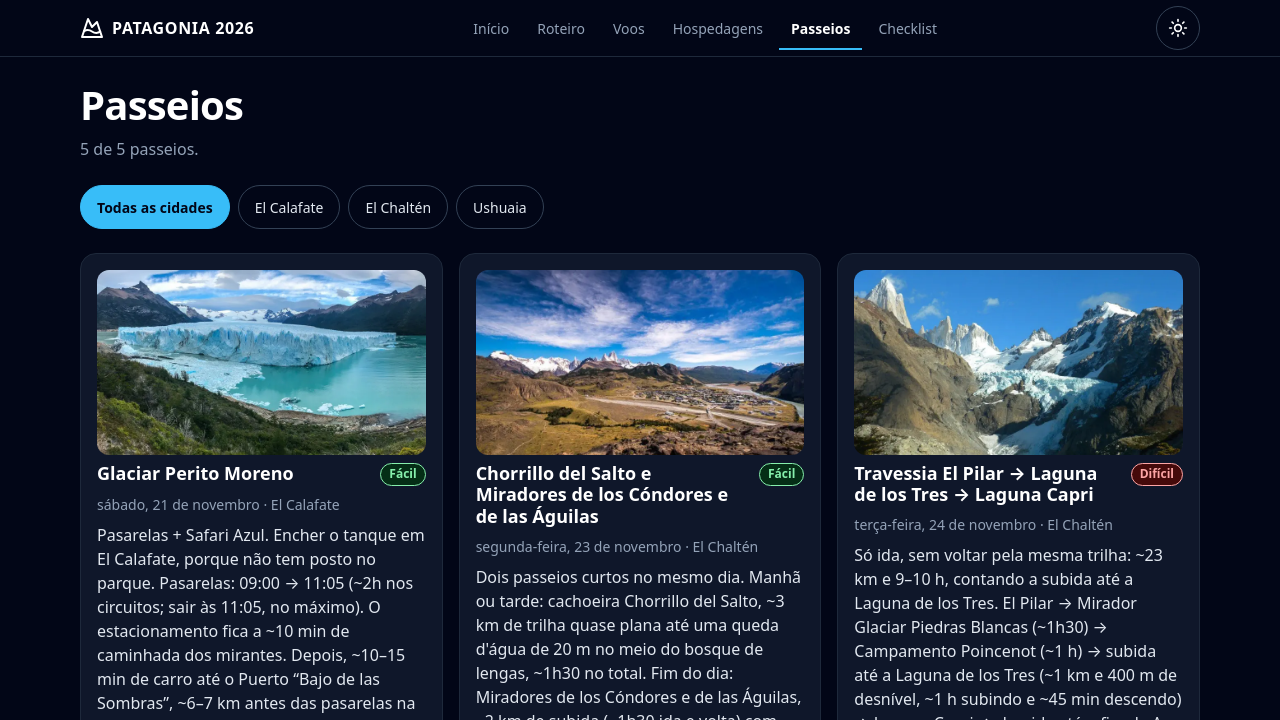
ActivitiesPage › filters by city through the URL
Click the link "Ushuaia".
click(500, 207)  # box [456,185,544,229]
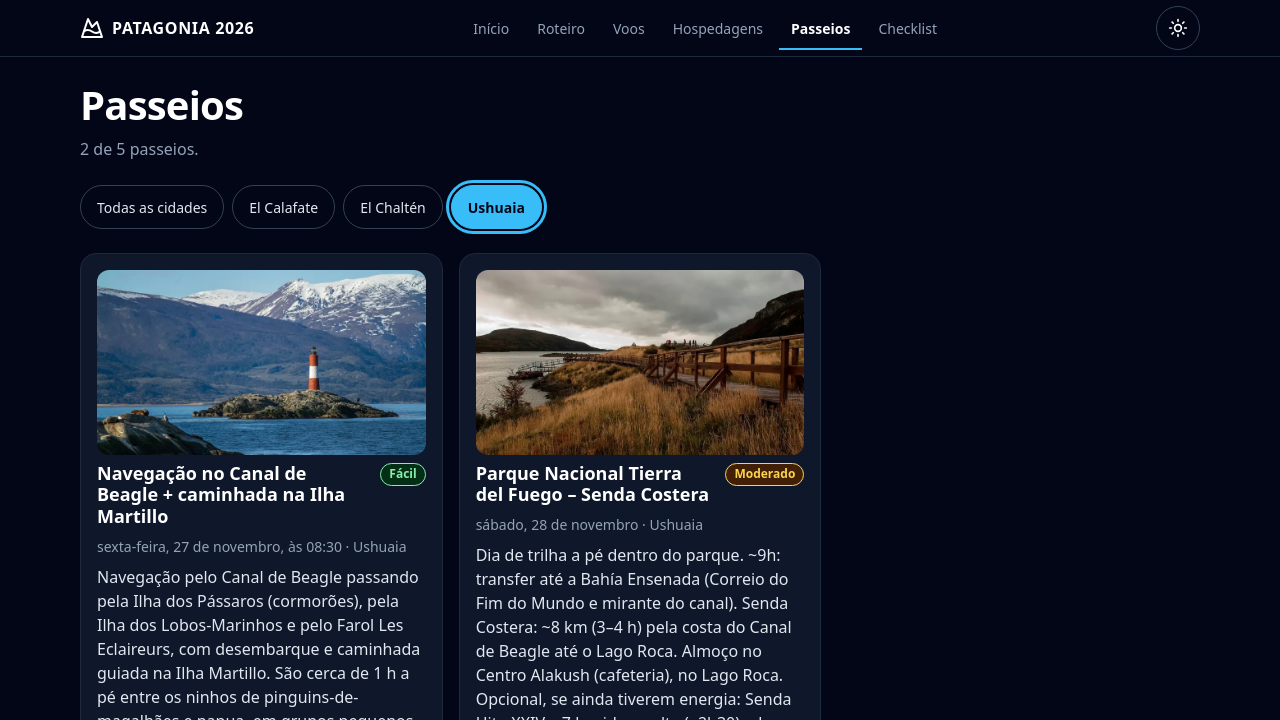
Now the text "2 de 5 passeios." is shown, box [80,138,199,160]
